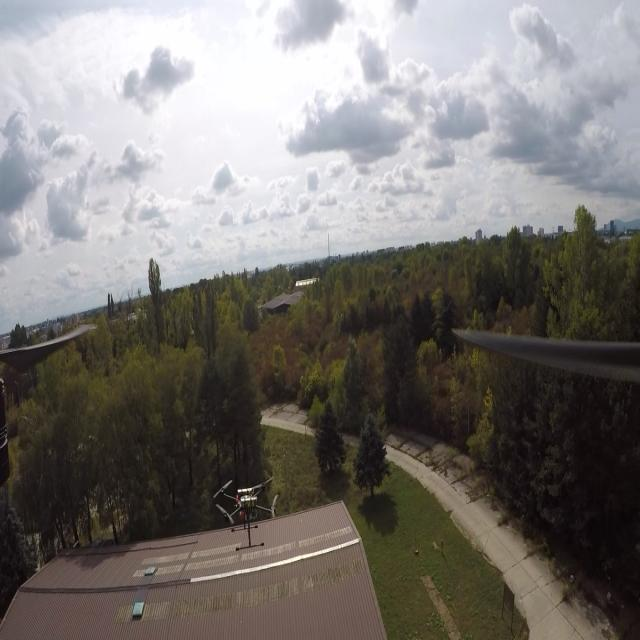UAV: (212, 469, 286, 556)
